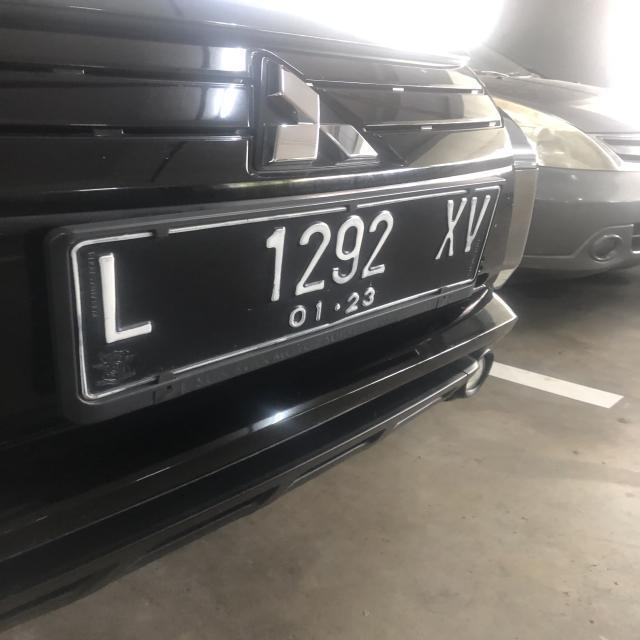1: (261, 227, 293, 300)
2: (361, 209, 399, 280), (295, 220, 331, 294)
9: (334, 214, 364, 284)
L: (99, 248, 160, 346)
V: (464, 192, 486, 255)
X: (436, 198, 467, 260)
